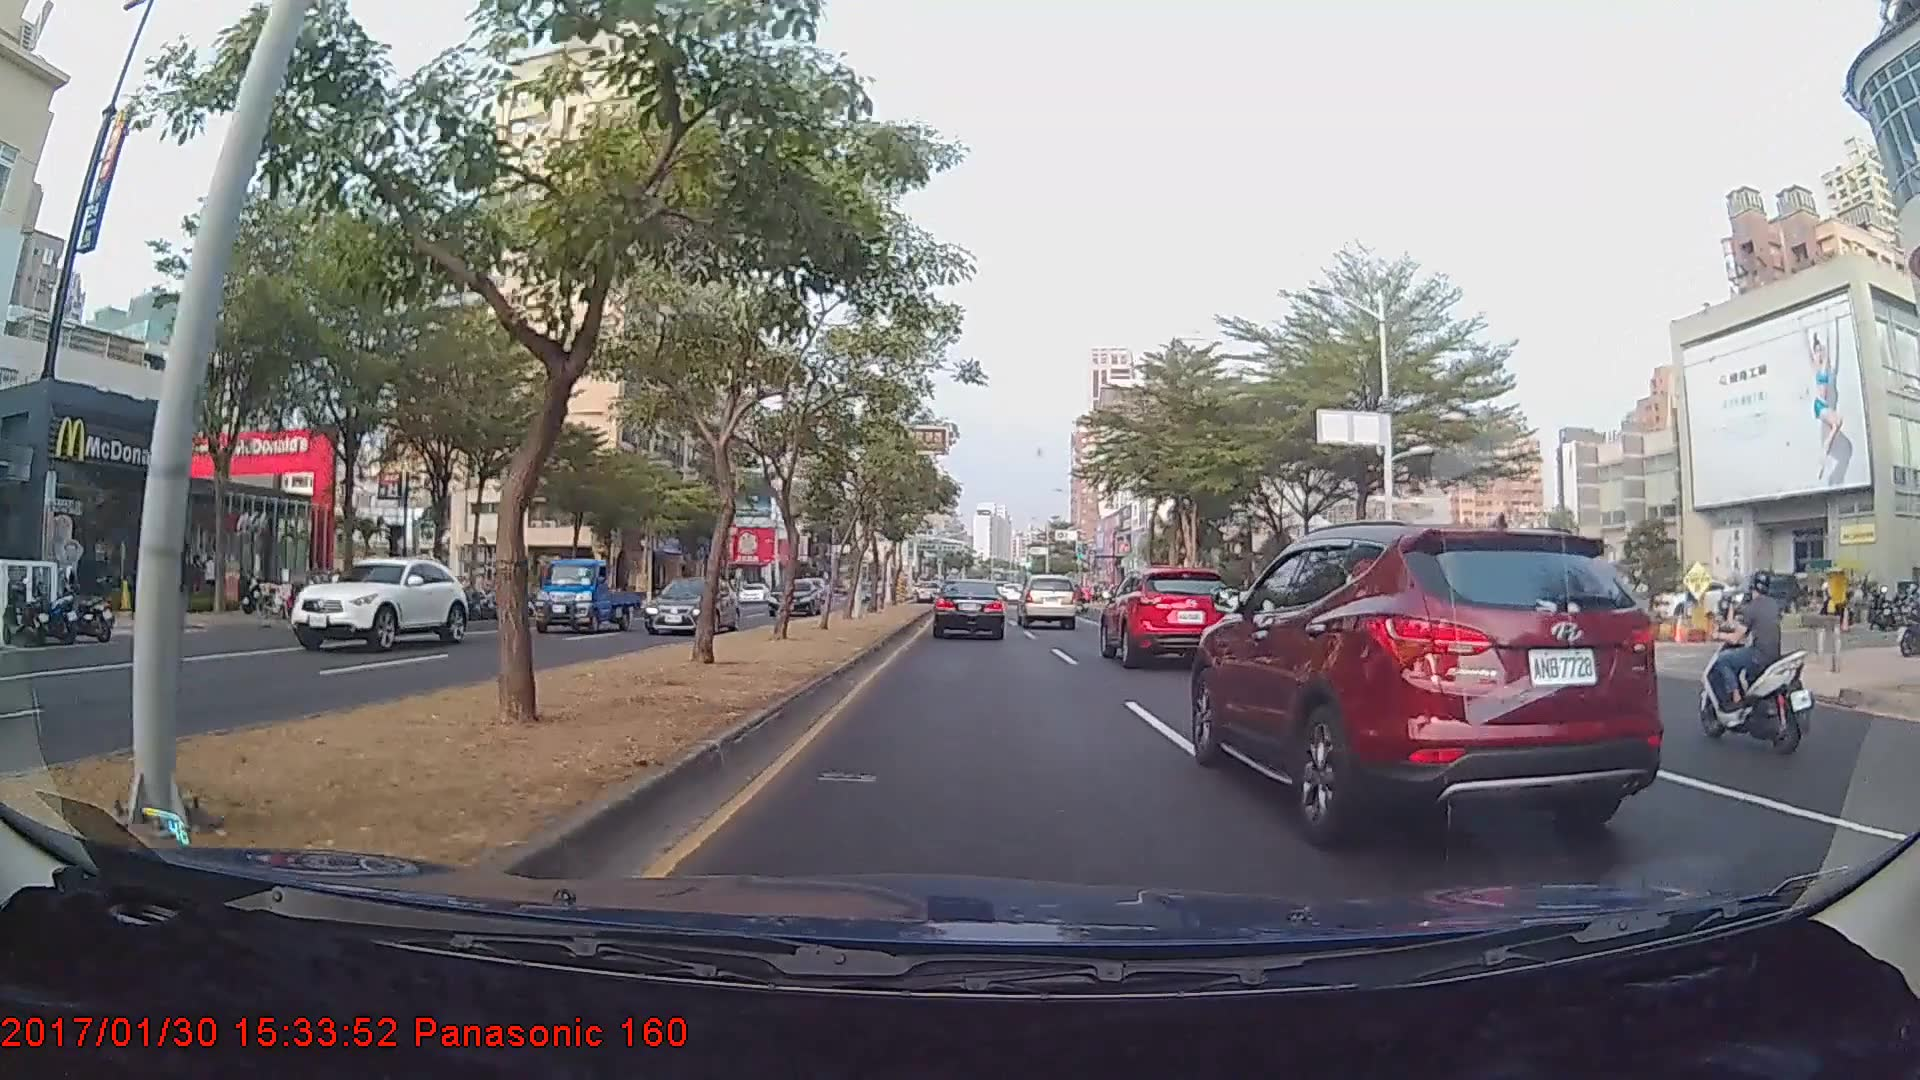rider: (1694, 566, 1818, 758)
vehicle: (1189, 523, 1662, 854), (286, 553, 470, 651), (1096, 564, 1238, 668), (535, 557, 640, 633), (644, 576, 741, 634), (932, 578, 1006, 640), (1018, 573, 1078, 629), (767, 577, 823, 618)
